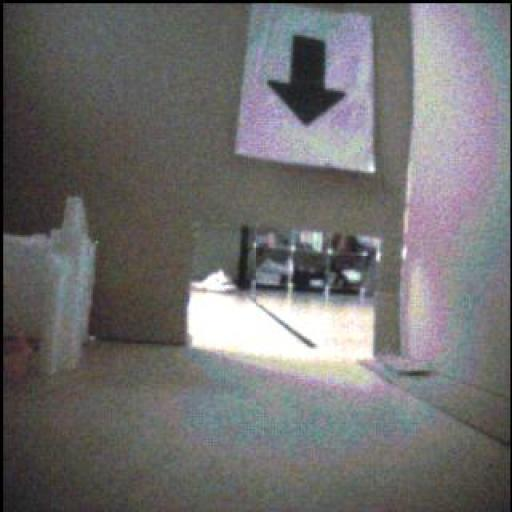arrow: (268, 36, 347, 126)
